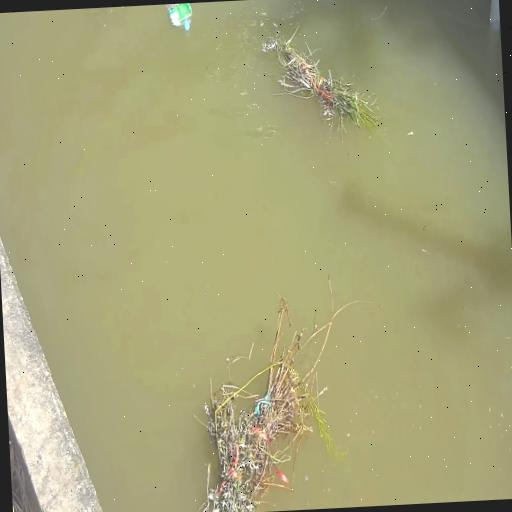plastic: (166, 3, 191, 30)
twig: (201, 281, 344, 512), (262, 30, 378, 132)
